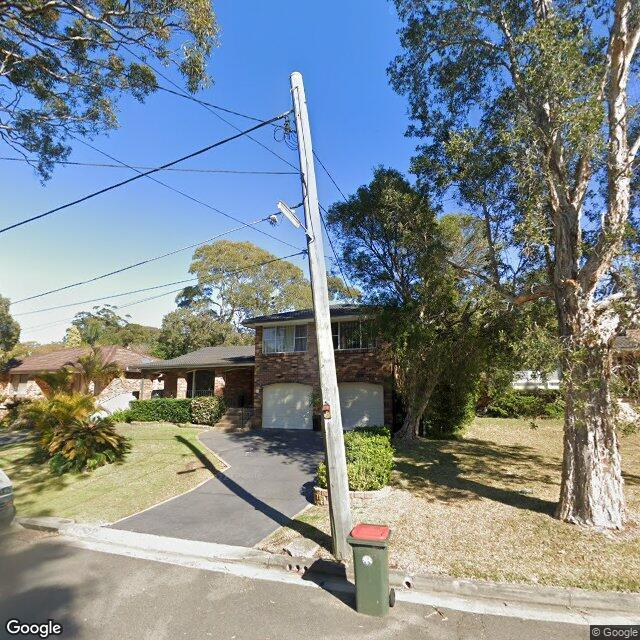streetlight: (277, 200, 312, 242)
timber-pole: (289, 71, 354, 561)
